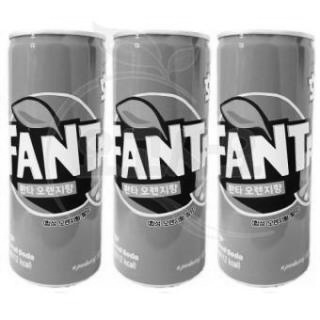alumunium_can: (211, 30, 316, 291), (6, 27, 106, 290), (114, 29, 212, 291)
